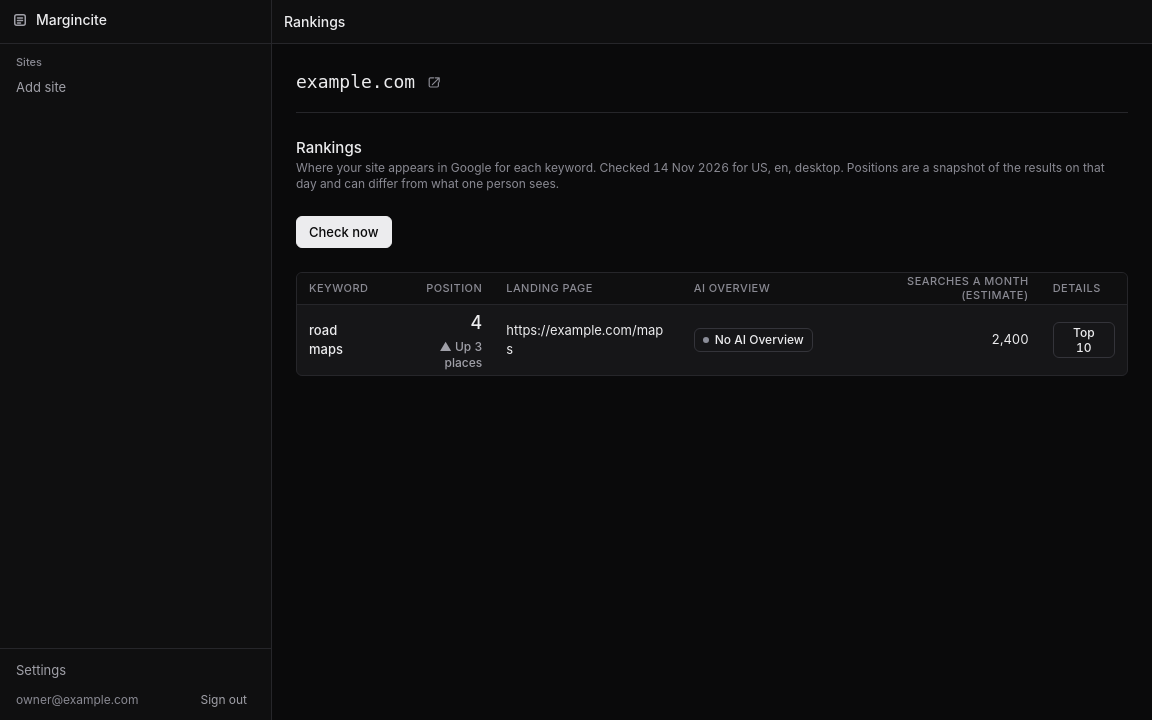
Test: Check now shows the server's refusal, with a link to Settings when credentials are missing
What coordinates should you click on to do the following:
click the button "Check now"
I would click on:
 (344, 232)
Its box is left=296, top=216, right=392, bottom=248.
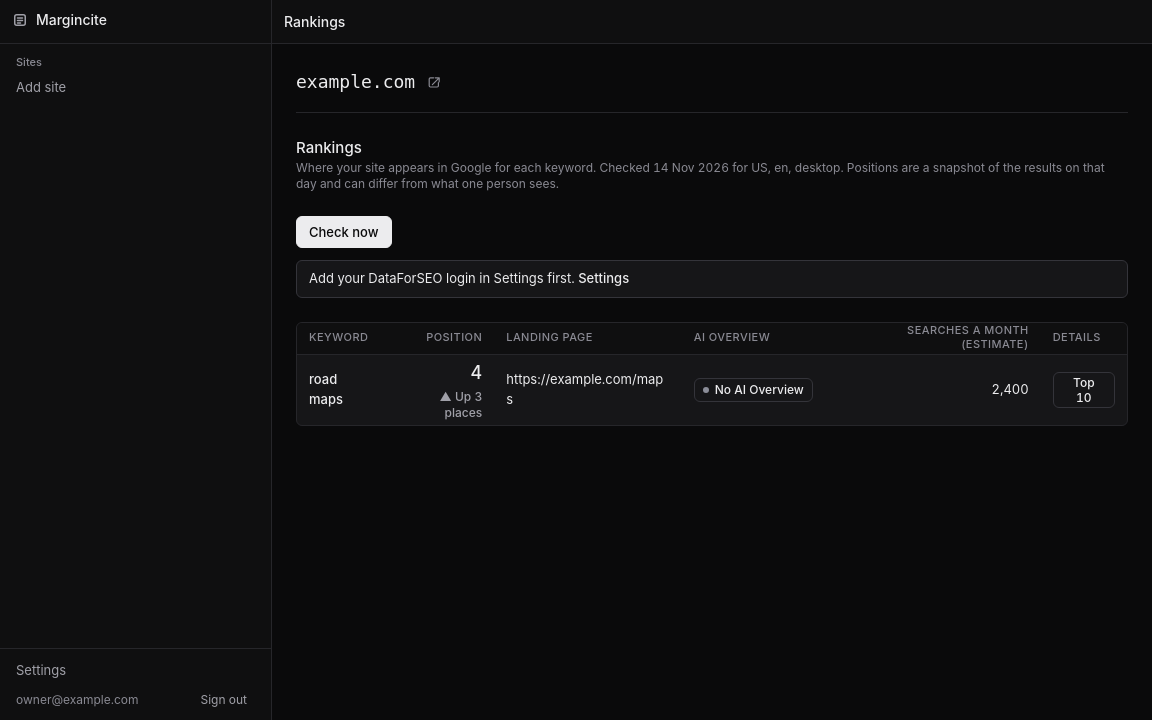
Result: the text "Add your DataForSEO login in Settings first." is shown at left=309, top=270, right=575, bottom=286
